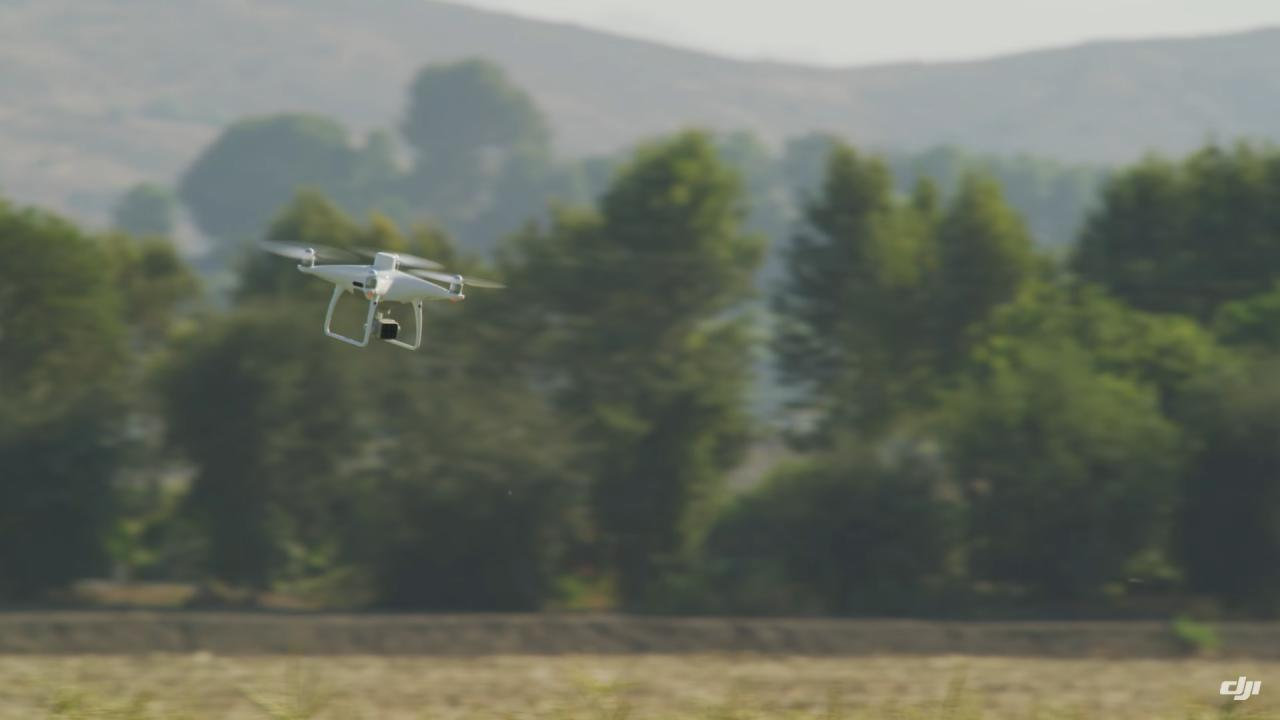Drone: (248, 228, 514, 360)
